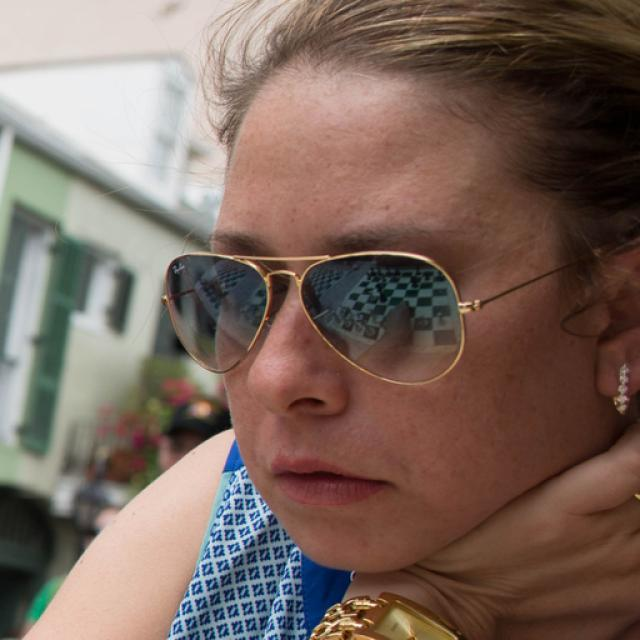neutral: (205, 42, 594, 576)
